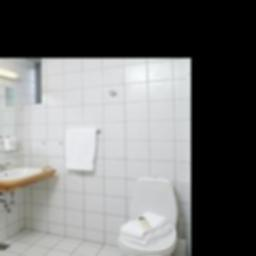Ducha: (0, 60, 40, 256)
Lavamanos: (0, 159, 56, 200)
Sanitario: (120, 178, 181, 256)
